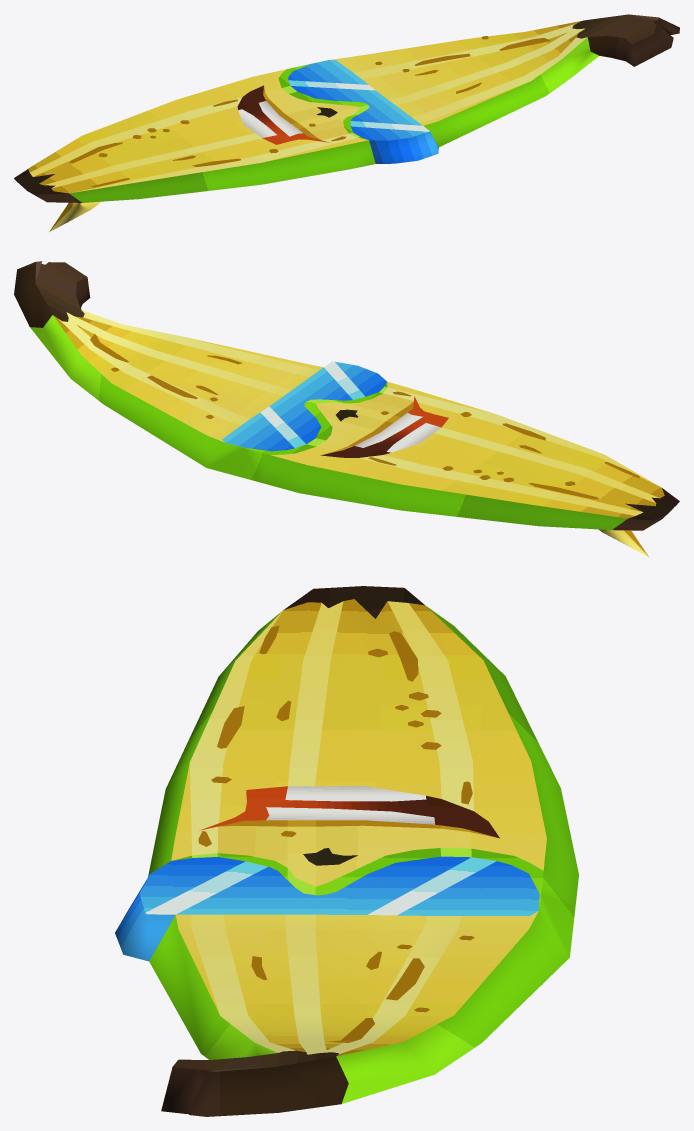
The model's file is BananaBoard.glb.
3 views of the same model, one above another, from view 1: azimuth 30°, elevation 25°; view 2: azimuth 150°, elevation 25°; view 3: azimuth 270°, elevation 25° (orthographic). The views are drawn at different scales.
Parts seen in each view (by area): view 1: BananaBoard; view 2: BananaBoard; view 3: BananaBoard.
Boxes of the visible parts, x1,y1,x2,y2 form: BananaBoard: (14,14,679,231); BananaBoard: (14,261,679,556); BananaBoard: (115,586,578,1116).
Size of the model in its own units: 14.67 by 2.22 by 4.77.
1 material, 1 textured.
